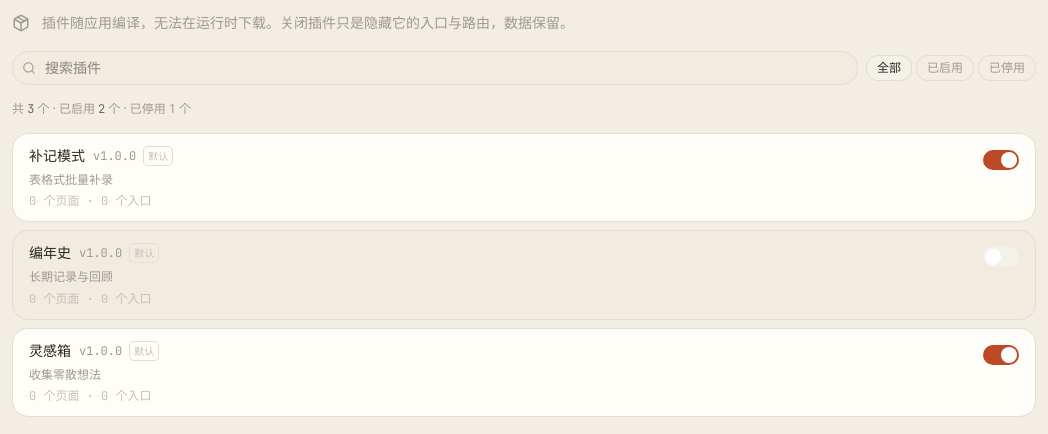
SettingsPlugins — 搜索与筛选 › 搜索框过滤名称
In the search field labelled "搜索插件": (435, 68) [12,51,858,85], type "编年"
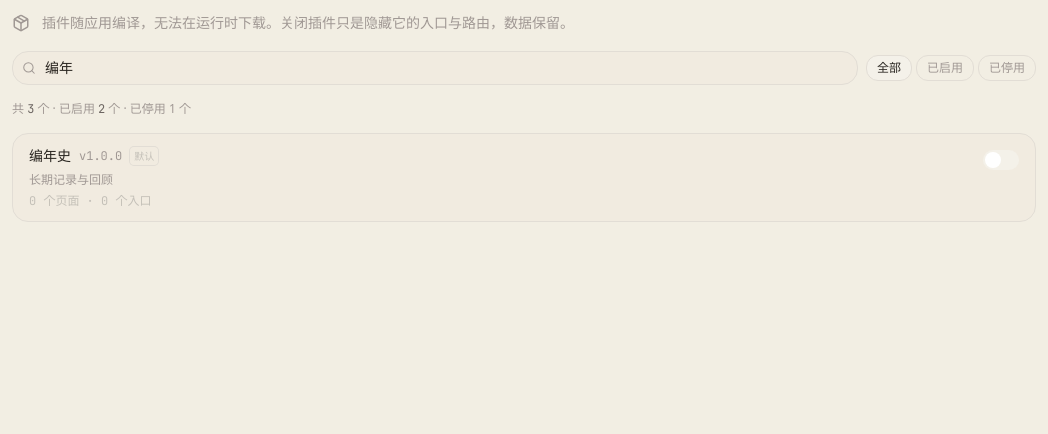
Expected: the text "编年史" is shown, [29,146,71,166]
Now the text "补记模式" is gone
